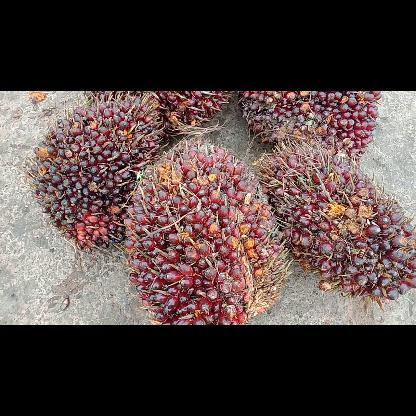Kurang masak: (118, 140, 289, 324), (254, 137, 414, 317), (25, 91, 169, 253), (236, 91, 384, 165)
